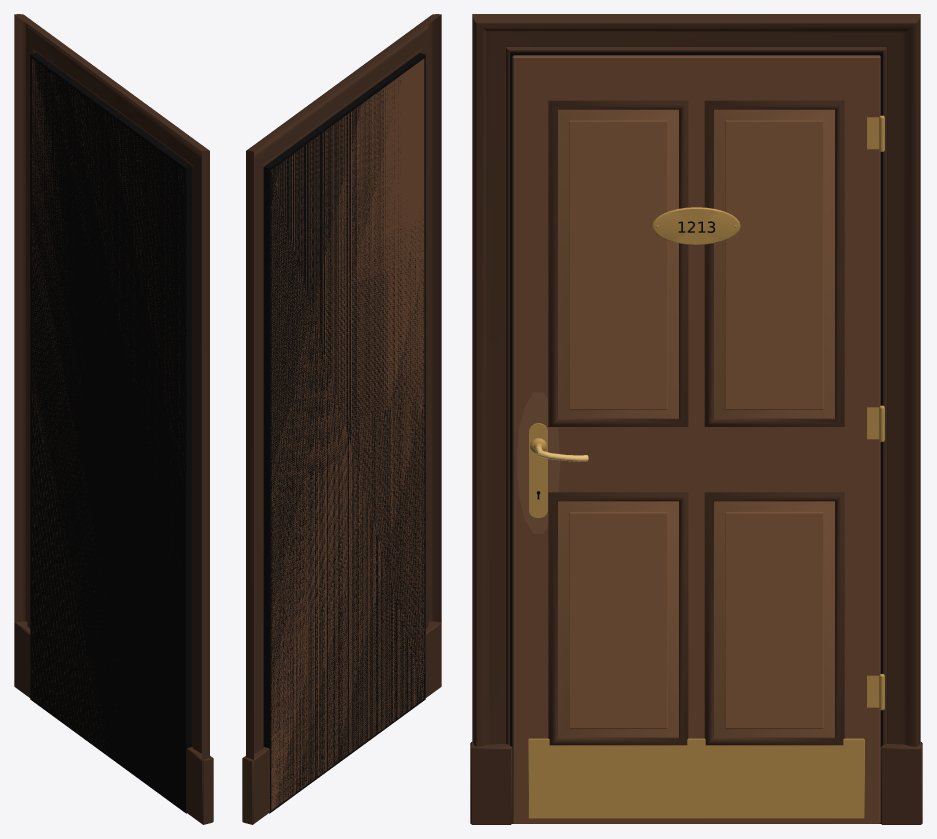
Rendered from hotel_door_a@1.glb.
3 views of the same model, side by side, from view 1: azimuth 30°, elevation 25°; view 2: azimuth 150°, elevation 25°; view 3: azimuth 270°, elevation 25° (orthographic). The views are drawn at different scales.
Parts seen in each view (by area): view 1: fuge, bekleidung, blatt; view 2: fuge, blatt, bekleidung; view 3: fuellungen, blatt, bekleidung, kehlleisten, beschlag, fuge, abrieb, nummernschild.
Part boxes in pixels (x1=…): fuge: x1=30, y1=53, x2=192, y2=813; bekleidung: x1=14, y1=14, x2=213, y2=824; blatt: x1=31, y1=59, x2=184, y2=752; fuge: x1=263, y1=53, x2=425, y2=813; blatt: x1=271, y1=58, x2=424, y2=810; bekleidung: x1=242, y1=14, x2=441, y2=824; fuellungen: x1=558, y1=109, x2=834, y2=737; blatt: x1=512, y1=55, x2=880, y2=823; bekleidung: x1=470, y1=14, x2=922, y2=824; kehlleisten: x1=548, y1=100, x2=844, y2=745; beschlag: x1=528, y1=115, x2=884, y2=818; fuge: x1=510, y1=51, x2=882, y2=823; abrieb: x1=516, y1=392, x2=560, y2=533; nummernschild: x1=652, y1=207, x2=740, y2=244.
Size of the model in its own units: 0.1118 by 2.22 by 1.13.
